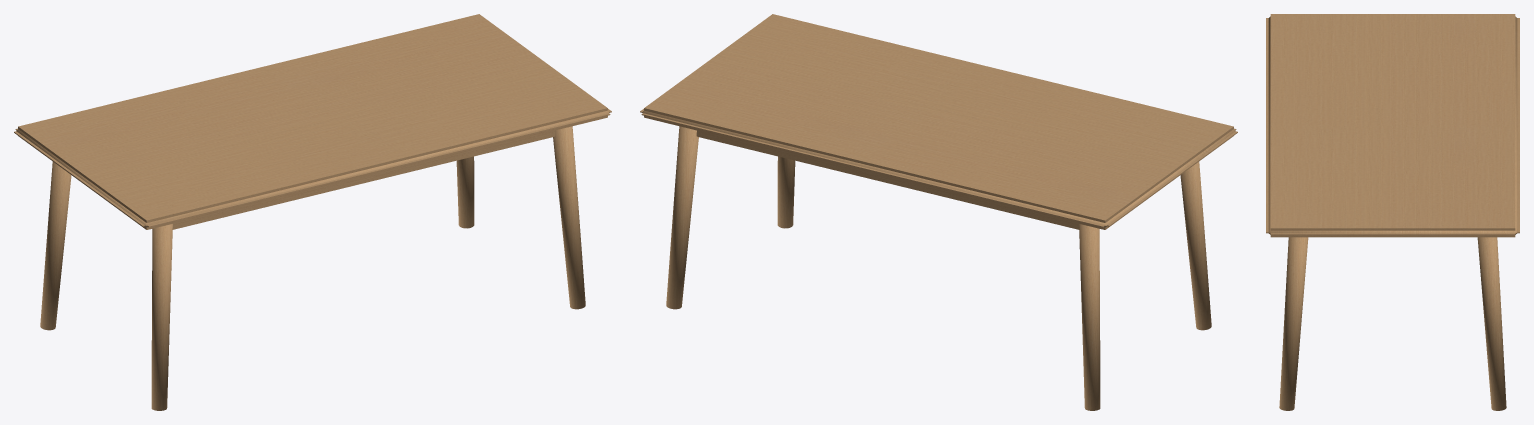
The model's file is scandinavian.dining_table.gltf.
3 renders of one model, left to right at view 1: azimuth 30°, elevation 25°; view 2: azimuth 150°, elevation 25°; view 3: azimuth 270°, elevation 25°, orthographic. The views are drawn at different scales.
Parts seen in each view (by area): view 1: scandinavian.dining_table.rounded-top; view 2: scandinavian.dining_table.rounded-top; view 3: scandinavian.dining_table.rounded-top.
Boxes of the visible parts, left/top/right/bottom form: scandinavian.dining_table.rounded-top: left=14, top=14, right=611, bottom=410; scandinavian.dining_table.rounded-top: left=640, top=14, right=1237, bottom=410; scandinavian.dining_table.rounded-top: left=1266, top=14, right=1519, bottom=410.
Bounding box in the file's own units: 1.85 × 0.7523 × 0.91.
Materials: 1 (1 with a texture image).
